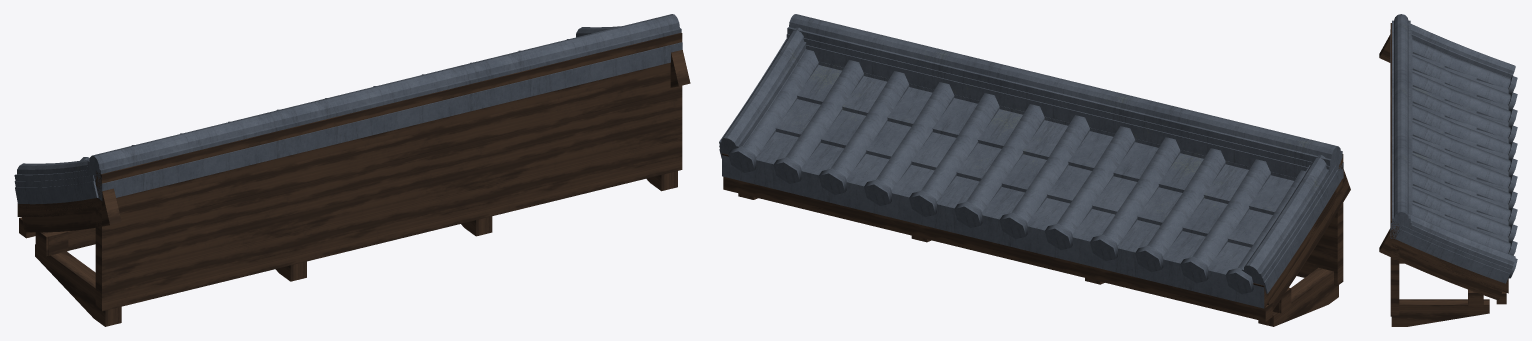
The model's file is HO_Roof_Hisashi_12.fbx.
3 renders of one model, left to right at view 1: azimuth 30°, elevation 25°; view 2: azimuth 150°, elevation 25°; view 3: azimuth 270°, elevation 25°, orthographic. The views are drawn at different scales.
Parts seen in each view (by area): view 1: HO_Roof_Hisashi_12; view 2: HO_Roof_Hisashi_12; view 3: HO_Roof_Hisashi_12.
Part boxes in pixels (bbox=[...]): HO_Roof_Hisashi_12: bbox=[14, 14, 690, 326]; HO_Roof_Hisashi_12: bbox=[719, 14, 1350, 326]; HO_Roof_Hisashi_12: bbox=[1379, 14, 1517, 326].
Size of the model in its own units: 12.07 by 3.29 by 3.55.
